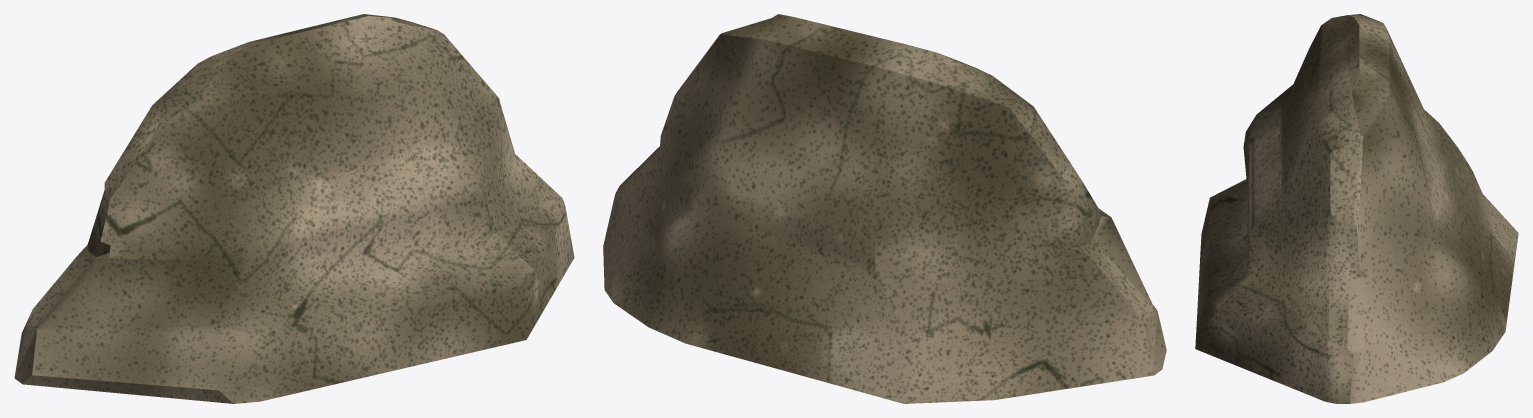
The model's file is Rock4S.fbx.
3 views of the same model, side by side, from view 1: azimuth 30°, elevation 25°; view 2: azimuth 150°, elevation 25°; view 3: azimuth 270°, elevation 25° (orthographic). The views are drawn at different scales.
Parts seen in each view (by area): view 1: pCone2; view 2: pCone2; view 3: pCone2.
Part boxes in pixels (x1,y1,x2,y2): pCone2: [14, 14, 574, 403]; pCone2: [603, 14, 1166, 403]; pCone2: [1195, 14, 1518, 403].
Size of the model in its own units: 171 by 81.27 by 97.2.
